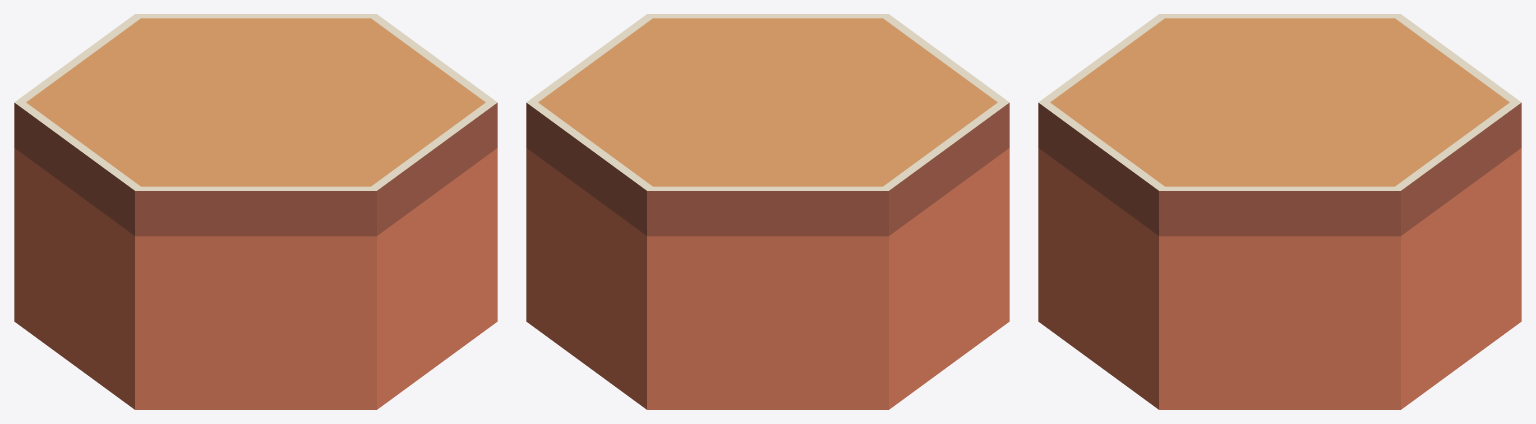
The model's file is M_SiltTile.fbx.
3 renders of one model, left to right at view 1: azimuth 30°, elevation 25°; view 2: azimuth 150°, elevation 25°; view 3: azimuth 270°, elevation 25°, orthographic.
Visible parts, largest first — view 1: sand_tile; view 2: sand_tile; view 3: sand_tile.
Boxes of the visible parts, left/top/right/bottom form: sand_tile: left=14, top=14, right=497, bottom=409; sand_tile: left=526, top=14, right=1009, bottom=409; sand_tile: left=1038, top=14, right=1521, bottom=409.
Size of the model in its own units: 1.73 by 1 by 2.
Materials: 1 (1 with a texture image).
